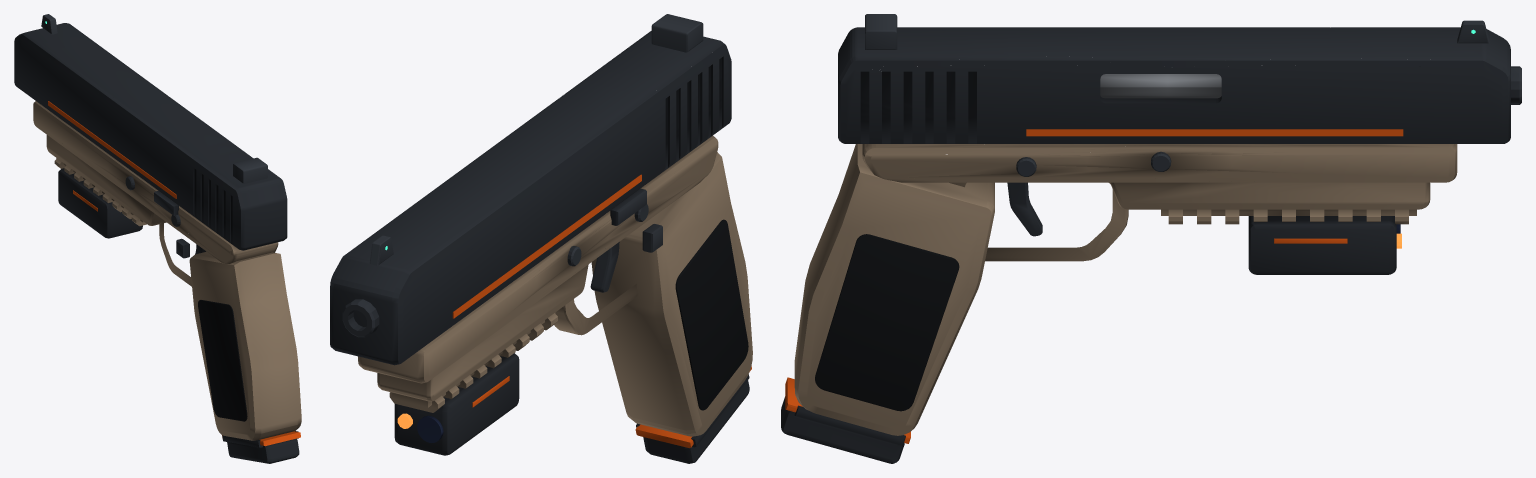
Rendered from five-seven.glb.
3 renders of one model, left to right at view 1: azimuth 30°, elevation 25°; view 2: azimuth 150°, elevation 25°; view 3: azimuth 270°, elevation 25°, orthographic. The views are drawn at different scales.
Parts seen in each view (by area): view 1: bolt_frame2, body_furn, body_rubber, body_frame2, mag_frame2, bolt_steel, body_steel, bolt_accent, mag_accent; view 2: bolt_frame2, body_furn, body_rubber, body_frame2, body_steel, bolt_steel, mag_frame2, bolt_accent, mag_accent, body_lens; view 3: bolt_frame2, body_furn, body_rubber, body_frame2, bolt_bolt, bolt_accent, mag_frame2, body_steel, bolt_steel.
Boxes of the visible parts, x1,y1,x2,y2 form: bolt_frame2: (14, 23, 287, 250); body_furn: (33, 101, 301, 440); body_rubber: (198, 300, 247, 421); body_frame2: (58, 168, 298, 447); mag_frame2: (227, 438, 299, 463); bolt_steel: (41, 14, 267, 183); body_steel: (125, 176, 205, 258); bolt_accent: (48, 101, 176, 198); mag_accent: (222, 431, 300, 446); bolt_frame2: (330, 31, 731, 365); body_furn: (358, 135, 752, 436); body_rubber: (675, 219, 748, 410); body_frame2: (394, 353, 749, 455); body_steel: (342, 188, 662, 337); bolt_steel: (369, 14, 703, 265); mag_frame2: (643, 380, 749, 463); bolt_accent: (452, 174, 641, 318); mag_accent: (635, 366, 751, 448); body_lens: (417, 415, 443, 442); bolt_frame2: (838, 27, 1510, 143); body_furn: (794, 144, 1457, 435); body_rubber: (815, 234, 959, 411); body_frame2: (794, 216, 1396, 445); bolt_bolt: (1100, 66, 1228, 98); bolt_accent: (1026, 129, 1403, 136); mag_frame2: (781, 396, 904, 463); body_steel: (1007, 66, 1521, 236); bolt_steel: (865, 14, 1489, 49).
Size of the model in its own units: 0.0355 by 0.1772 by 0.2751.
